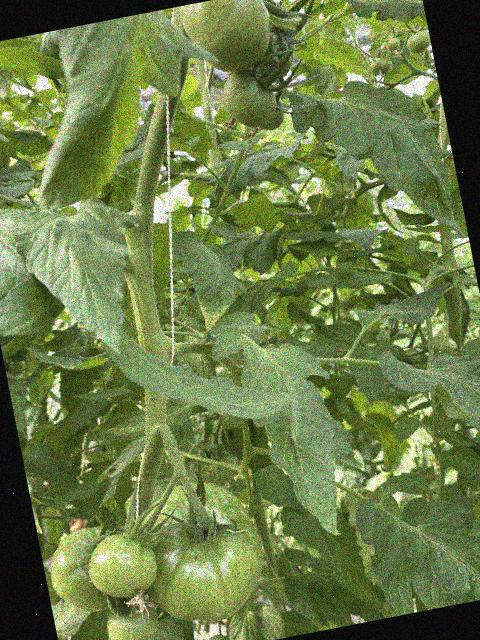b_green: (127, 470, 275, 634), (42, 520, 132, 619), (177, 0, 279, 81), (82, 526, 162, 605), (237, 4, 302, 87), (218, 65, 280, 132), (102, 594, 162, 640), (252, 99, 287, 132), (430, 331, 459, 360), (404, 29, 432, 55), (385, 36, 401, 52), (368, 58, 384, 73)
